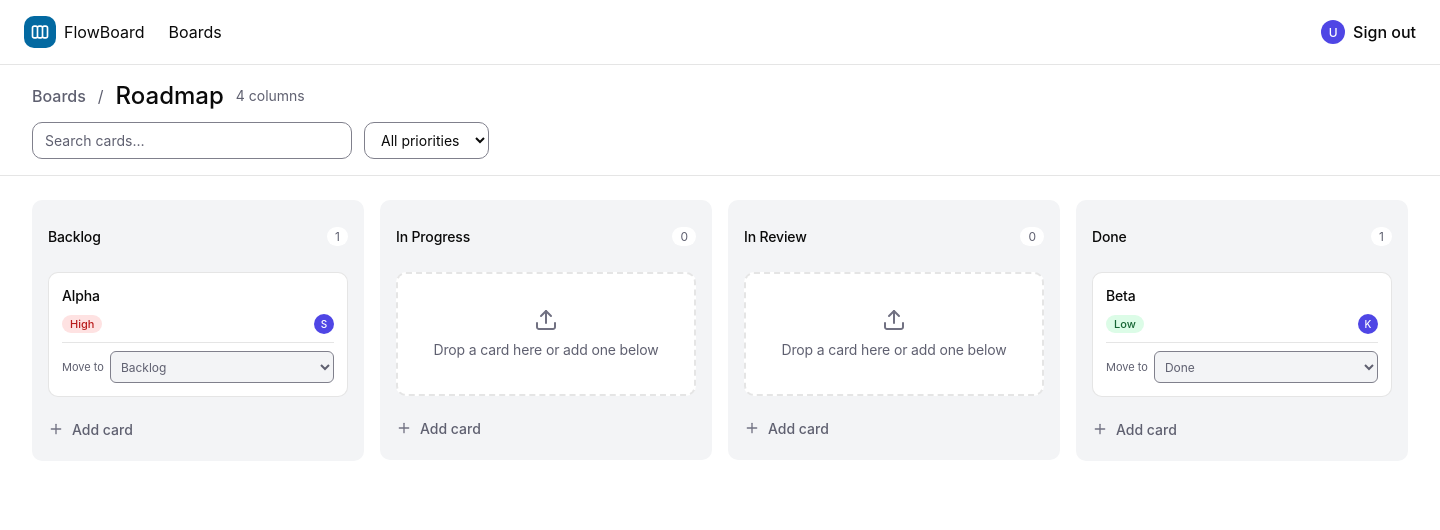
Test case: BoardPage – moving cards › rolls back and shows an error when the move fails
This screenshot has width=1440, height=530.
Expected: the text "Alpha" is shown, [62,287,100,304]
Select "Done" in the dropdown labelled "Move to" below "Backlog" at (222, 367), box [110,351,334,383]
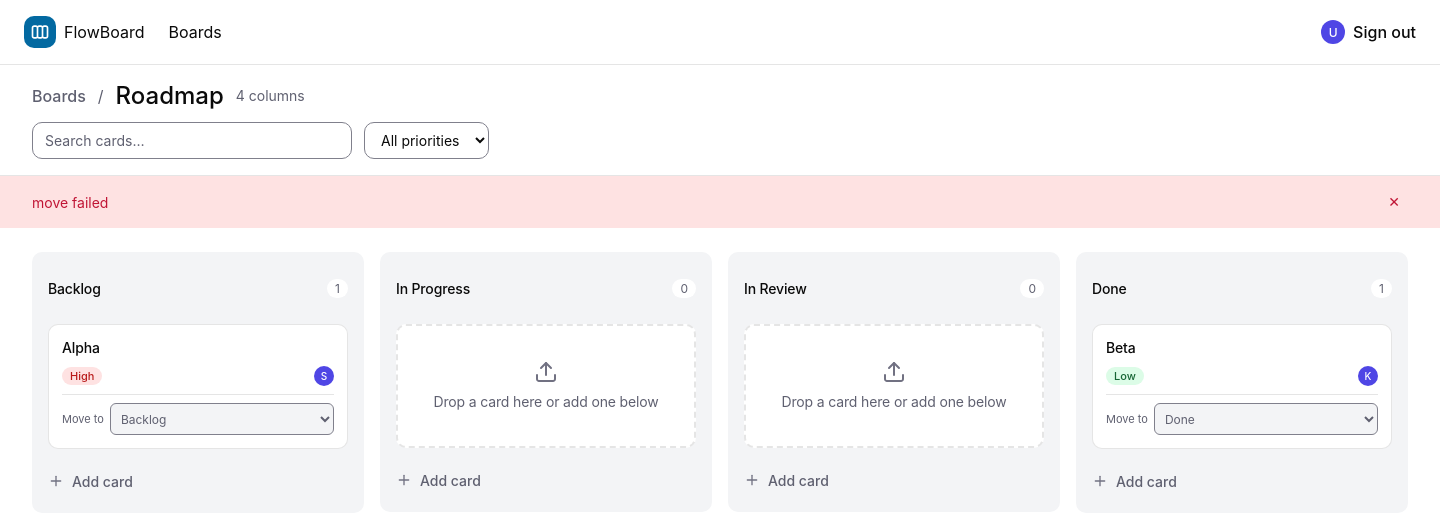
Expected: the text "Alpha" is shown, [62,339,100,356]
Expected: the message shows "move failed", [32,194,108,210]
